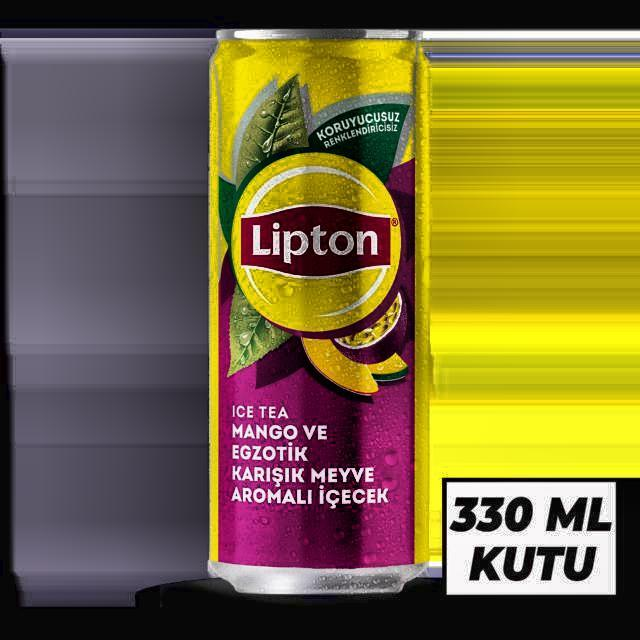metal: (206, 27, 429, 595)
